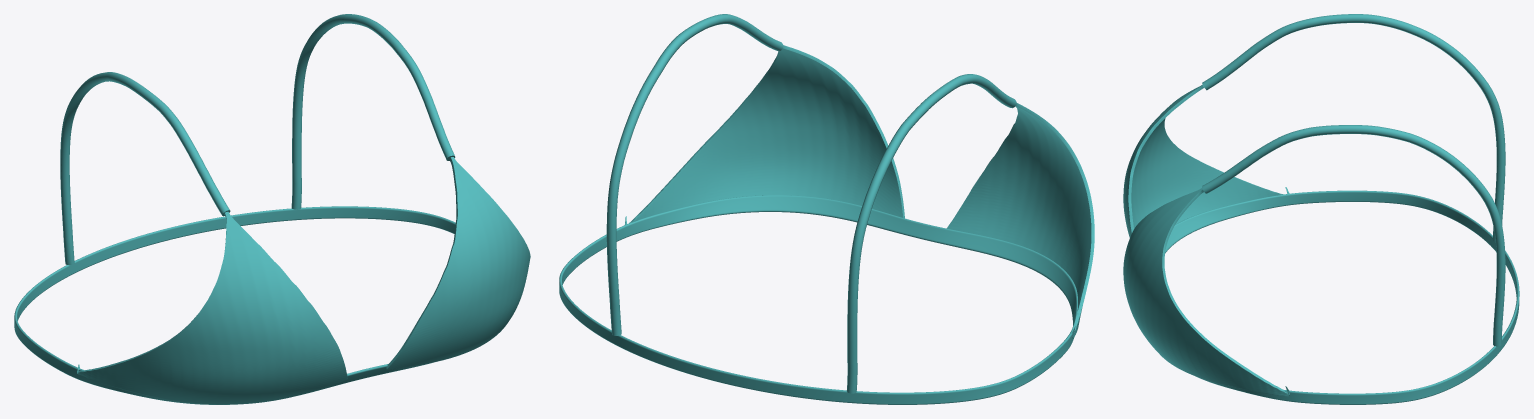
File: Feminine-triangle-top.glb
The picture shows the model from 3 angles, left to right: view 1: azimuth 30°, elevation 25°; view 2: azimuth 150°, elevation 25°; view 3: azimuth 270°, elevation 25°; orthographic projection. The views are drawn at different scales.
Parts seen in each view (by area): view 1: Clothing / clean triangle214 -1.001, Clothing / clean triangle214 1.001, Triangle / flush back band214.001, Triangle / seated shoulder strap214 1.001, Triangle / seated shoulder strap214 -1.001; view 2: Clothing / clean triangle214 1.001, Triangle / flush back band214.001, Clothing / clean triangle214 -1.001, Triangle / seated shoulder strap214 1.001, Triangle / seated shoulder strap214 -1.001; view 3: Clothing / clean triangle214 1.001, Triangle / flush back band214.001, Clothing / clean triangle214 -1.001, Triangle / seated shoulder strap214 1.001, Triangle / seated shoulder strap214 -1.001.
Boxes of the visible parts, x1,y1,x2,y2 form: Clothing / clean triangle214 -1.001: (77, 211, 347, 404); Clothing / clean triangle214 1.001: (386, 157, 530, 370); Triangle / flush back band214.001: (14, 206, 455, 404); Triangle / seated shoulder strap214 1.001: (291, 14, 455, 209); Triangle / seated shoulder strap214 -1.001: (60, 72, 230, 265); Clothing / clean triangle214 1.001: (625, 45, 904, 224); Triangle / flush back band214.001: (559, 195, 1077, 404); Clothing / clean triangle214 -1.001: (946, 103, 1094, 338); Triangle / seated shoulder strap214 1.001: (606, 14, 783, 335); Triangle / seated shoulder strap214 -1.001: (846, 74, 1016, 393); Clothing / clean triangle214 1.001: (1123, 188, 1289, 396); Triangle / flush back band214.001: (1165, 190, 1519, 404); Clothing / clean triangle214 -1.001: (1123, 85, 1289, 237); Triangle / seated shoulder strap214 1.001: (1202, 125, 1505, 346); Triangle / seated shoulder strap214 -1.001: (1202, 14, 1505, 241).
Size of the model in its own units: 0.5542 by 0.2956 by 0.4544.
